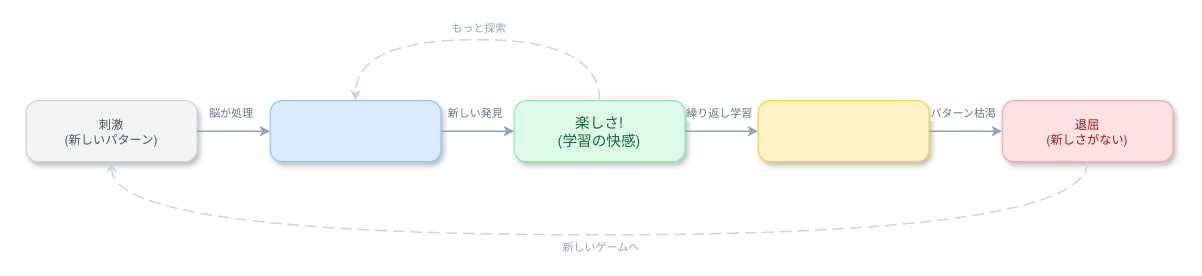
This 1202x276 diagram has some shape labels left out. The shapes that lost their labels are listed below. From the top down, each one's centre as x and y in pixels, then its label:
(x=356, y=132): パターン認識 (脳がチャンク化)
(x=844, y=132): パターン習得 (完全に理解した)
